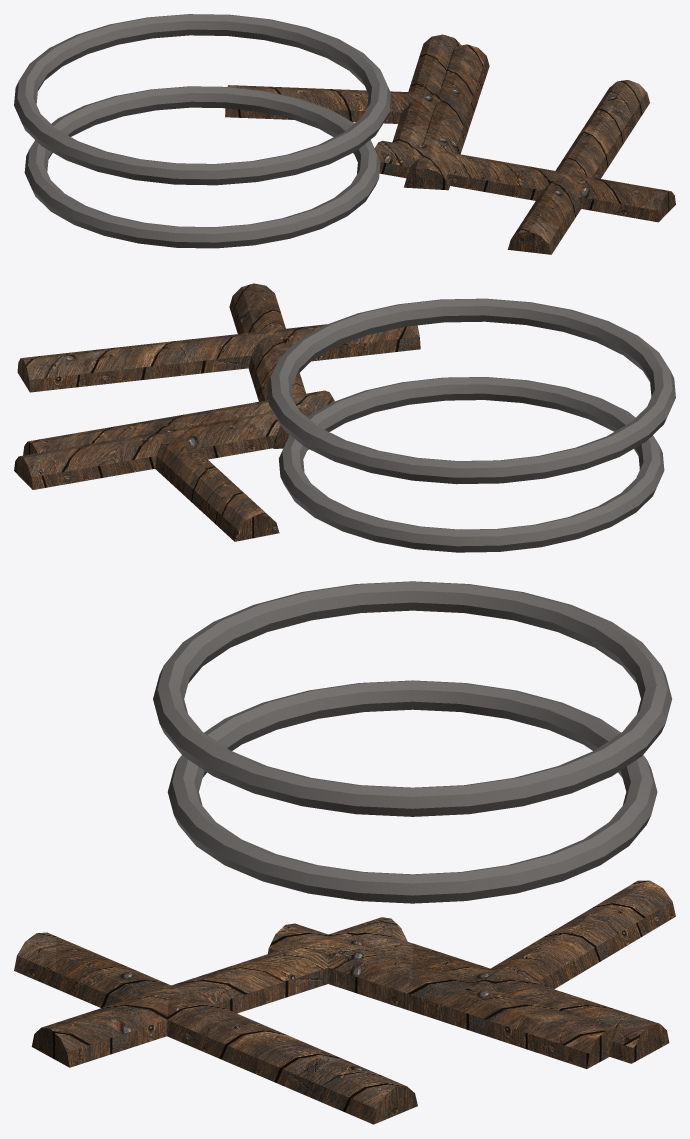
Rendered from broken-barrel-v01.glb.
3 views of the same model, one above another, from view 1: azimuth 30°, elevation 25°; view 2: azimuth 150°, elevation 25°; view 3: azimuth 270°, elevation 25° (orthographic). The views are drawn at different scales.
Parts seen in each view (by area): view 1: broken-barrel; view 2: broken-barrel; view 3: broken-barrel.
Part boxes in pixels (box(x1,y1,x2,y2)): broken-barrel: box(14, 14, 675, 254); broken-barrel: box(14, 283, 675, 552); broken-barrel: box(14, 581, 675, 1124).
Bounding box in the file's own units: 2.12 × 0.37 × 1.49.
2 materials, 1 textured.
